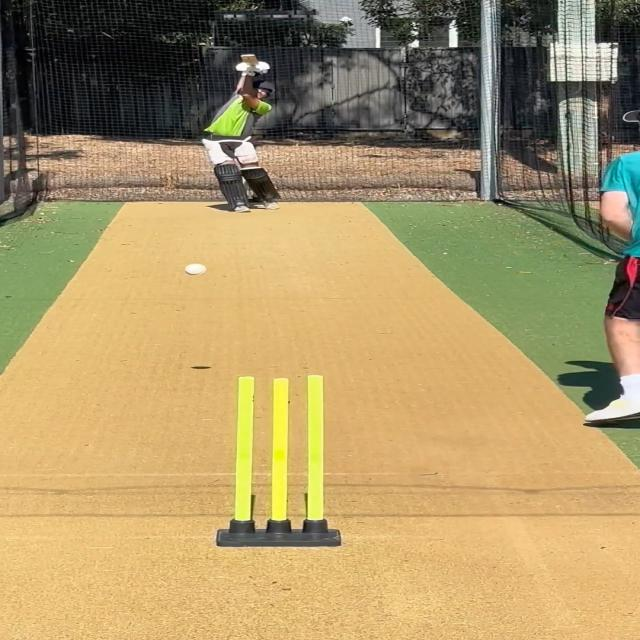ball: (182, 260, 210, 279)
stump: (217, 371, 345, 547)
